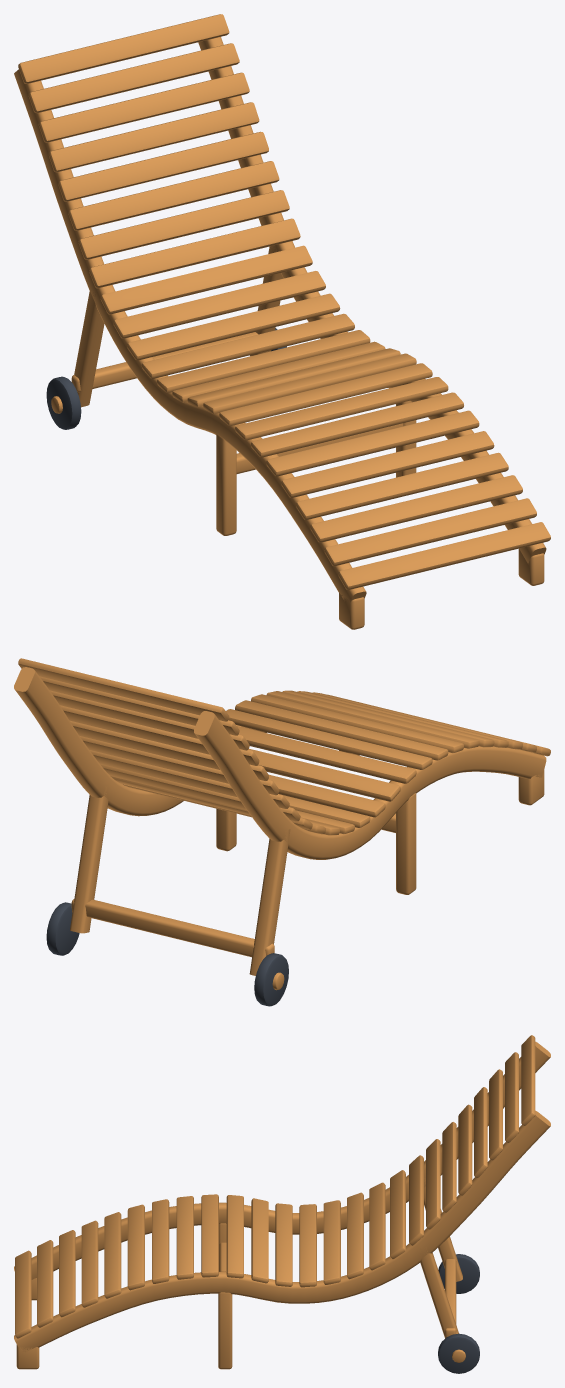
The model's file is espreguicadeira_curva_madeira.glb.
The picture shows the model from 3 angles, top to bottom: view 1: azimuth 30°, elevation 25°; view 2: azimuth 150°, elevation 25°; view 3: azimuth 270°, elevation 25°; orthographic projection. The views are drawn at different scales.
Visible parts, largest first — view 1: espreguicadeira_curva_madeira; view 2: espreguicadeira_curva_madeira; view 3: espreguicadeira_curva_madeira.
Part boxes in pixels (box(x1,y1,x2,y2)): espreguicadeira_curva_madeira: box(14, 14, 550, 629); espreguicadeira_curva_madeira: box(14, 658, 550, 1006); espreguicadeira_curva_madeira: box(14, 1035, 550, 1373).
Size of the model in its own units: 0.729 by 1.02 by 1.91.
Materials: 1 (1 with a texture image).
